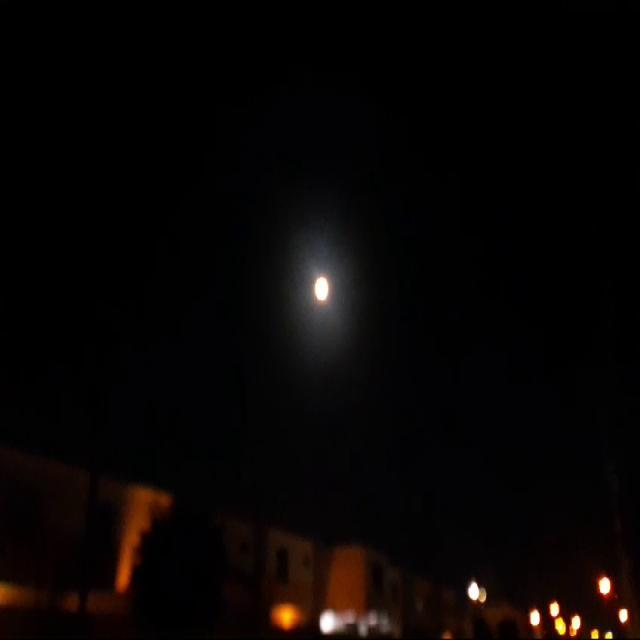moon: (314, 278, 331, 312)
